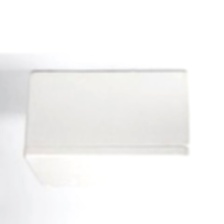foam_box: (16, 64, 198, 198)
